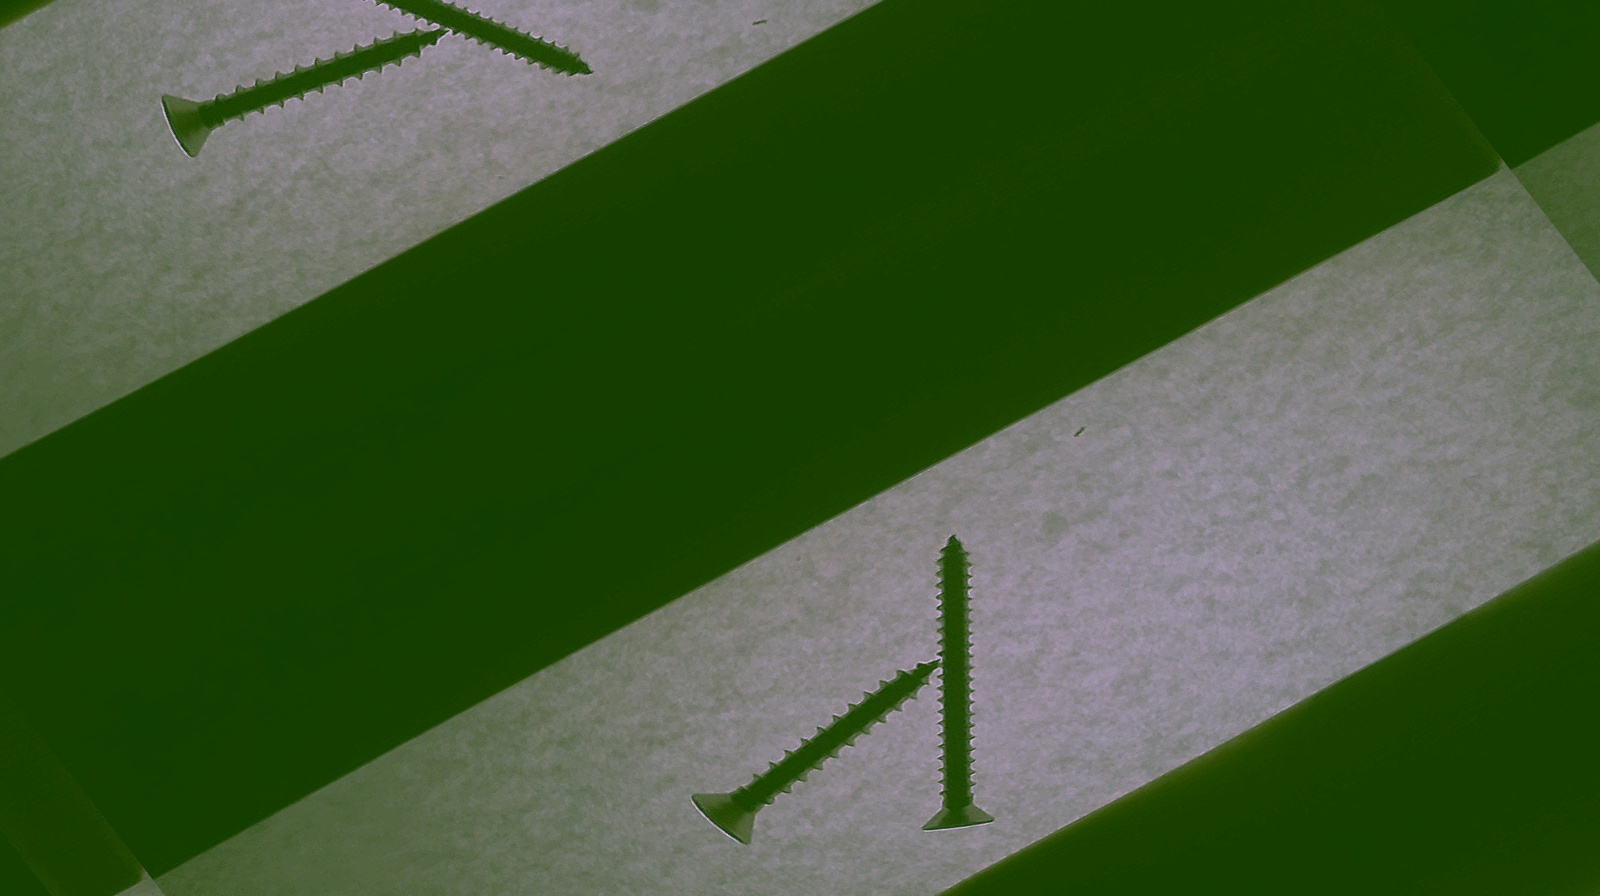S001: (662, 640, 1001, 863)
S002: (757, 522, 1141, 856)
